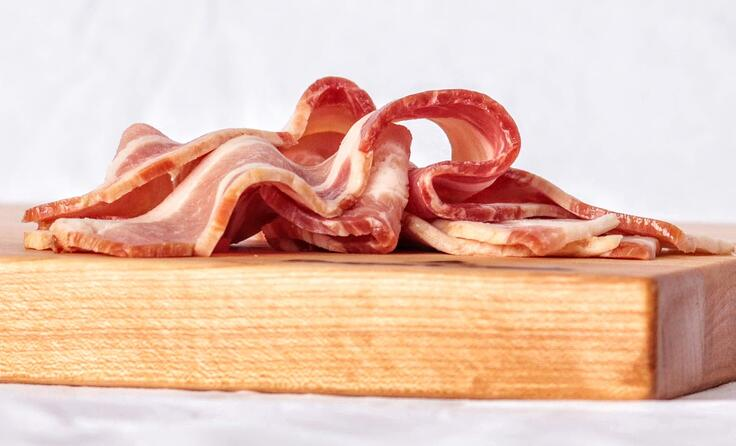bacon: (33, 100, 685, 283)
